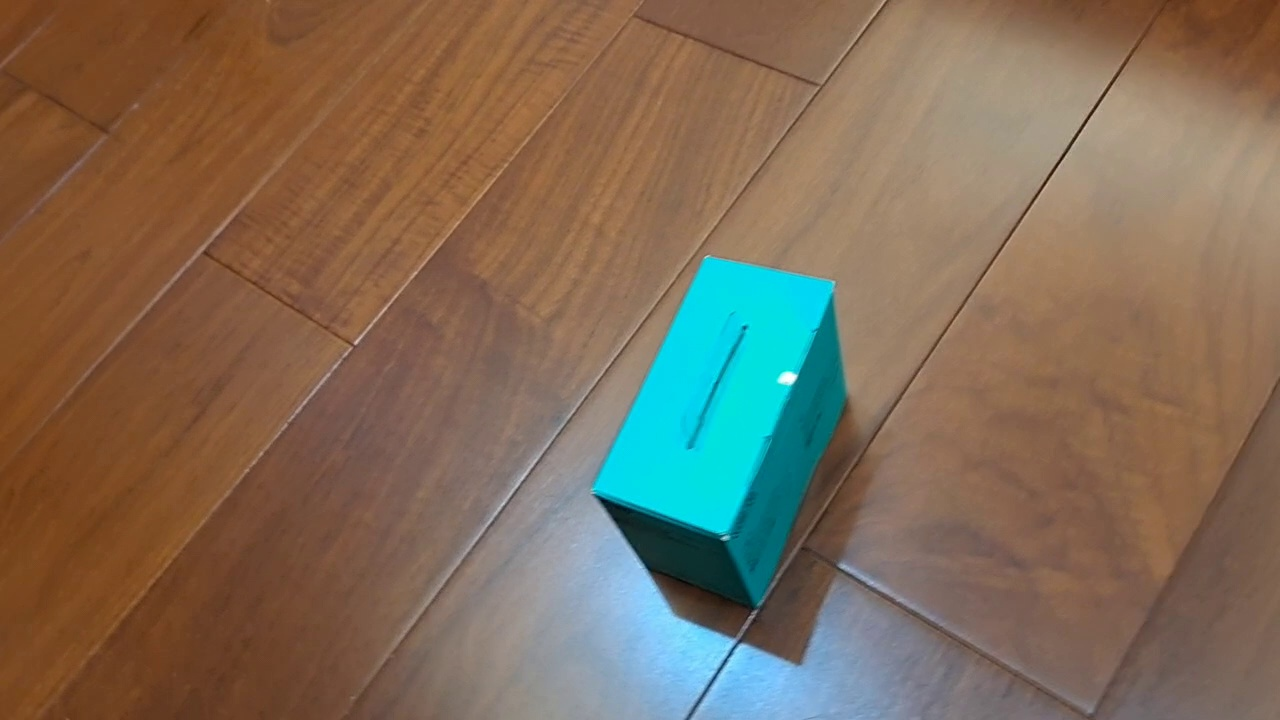webcam: (588, 253, 850, 612)
